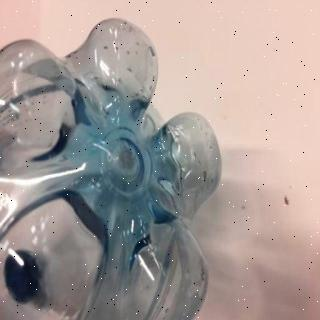Plastic-bottle: (1, 18, 223, 320)
